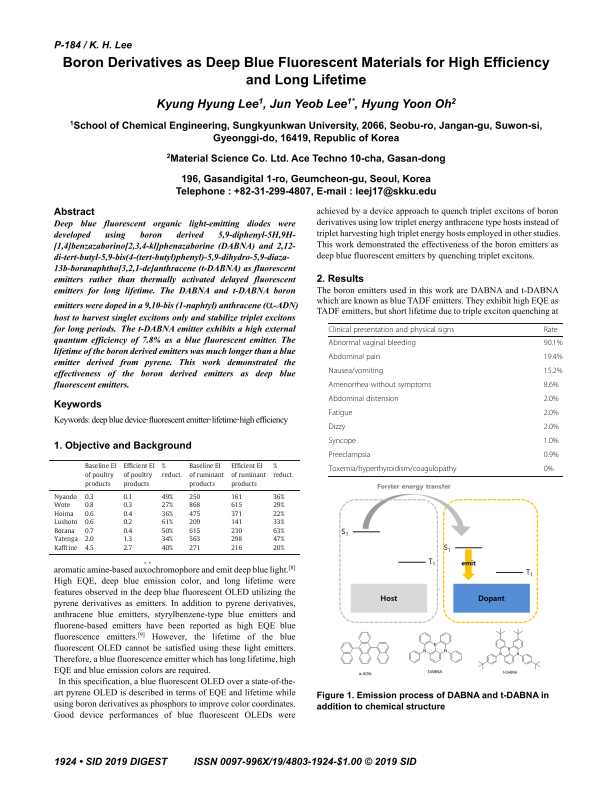borderless: (327, 321, 563, 476), (48, 458, 300, 554)
cell: (327, 464, 457, 474), (328, 325, 455, 334), (328, 380, 432, 390), (188, 463, 225, 488), (230, 463, 267, 488), (328, 338, 417, 348), (84, 463, 117, 488), (123, 463, 156, 488), (328, 394, 400, 404), (328, 366, 384, 376), (328, 352, 381, 362), (328, 450, 371, 460), (272, 463, 295, 479), (161, 463, 183, 479), (328, 436, 357, 446), (328, 408, 353, 418), (53, 544, 79, 553), (53, 518, 78, 527), (53, 536, 79, 544), (53, 493, 78, 501), (543, 338, 563, 348), (543, 352, 563, 362), (543, 366, 563, 376), (53, 527, 76, 535), (328, 422, 346, 432), (53, 510, 75, 518), (543, 380, 560, 390), (543, 394, 560, 404), (543, 408, 560, 418), (543, 422, 560, 432), (543, 436, 560, 446), (543, 450, 560, 460), (53, 501, 71, 510), (543, 325, 559, 334), (161, 501, 174, 510), (188, 501, 201, 510), (230, 501, 243, 510), (272, 501, 285, 510), (161, 518, 174, 527), (188, 518, 201, 527), (230, 518, 243, 527), (272, 518, 285, 527), (161, 544, 174, 553), (188, 544, 201, 553), (230, 544, 243, 553), (272, 544, 285, 553), (543, 464, 554, 474), (161, 493, 174, 501), (188, 493, 201, 501), (230, 493, 243, 501), (272, 493, 285, 501), (161, 510, 174, 518), (188, 510, 201, 518), (230, 510, 243, 518), (272, 510, 285, 518), (161, 527, 174, 535), (188, 527, 201, 535), (230, 527, 243, 535), (272, 527, 285, 535), (161, 536, 174, 544), (188, 536, 201, 544), (230, 536, 243, 544), (272, 536, 285, 544), (84, 501, 95, 510), (84, 518, 95, 527), (84, 544, 95, 553), (123, 501, 133, 510), (123, 518, 133, 527), (123, 544, 133, 553), (84, 493, 95, 501), (84, 510, 95, 518), (84, 527, 95, 535), (84, 536, 95, 544), (123, 493, 133, 501), (123, 510, 133, 518), (123, 527, 133, 535), (123, 536, 133, 544)
